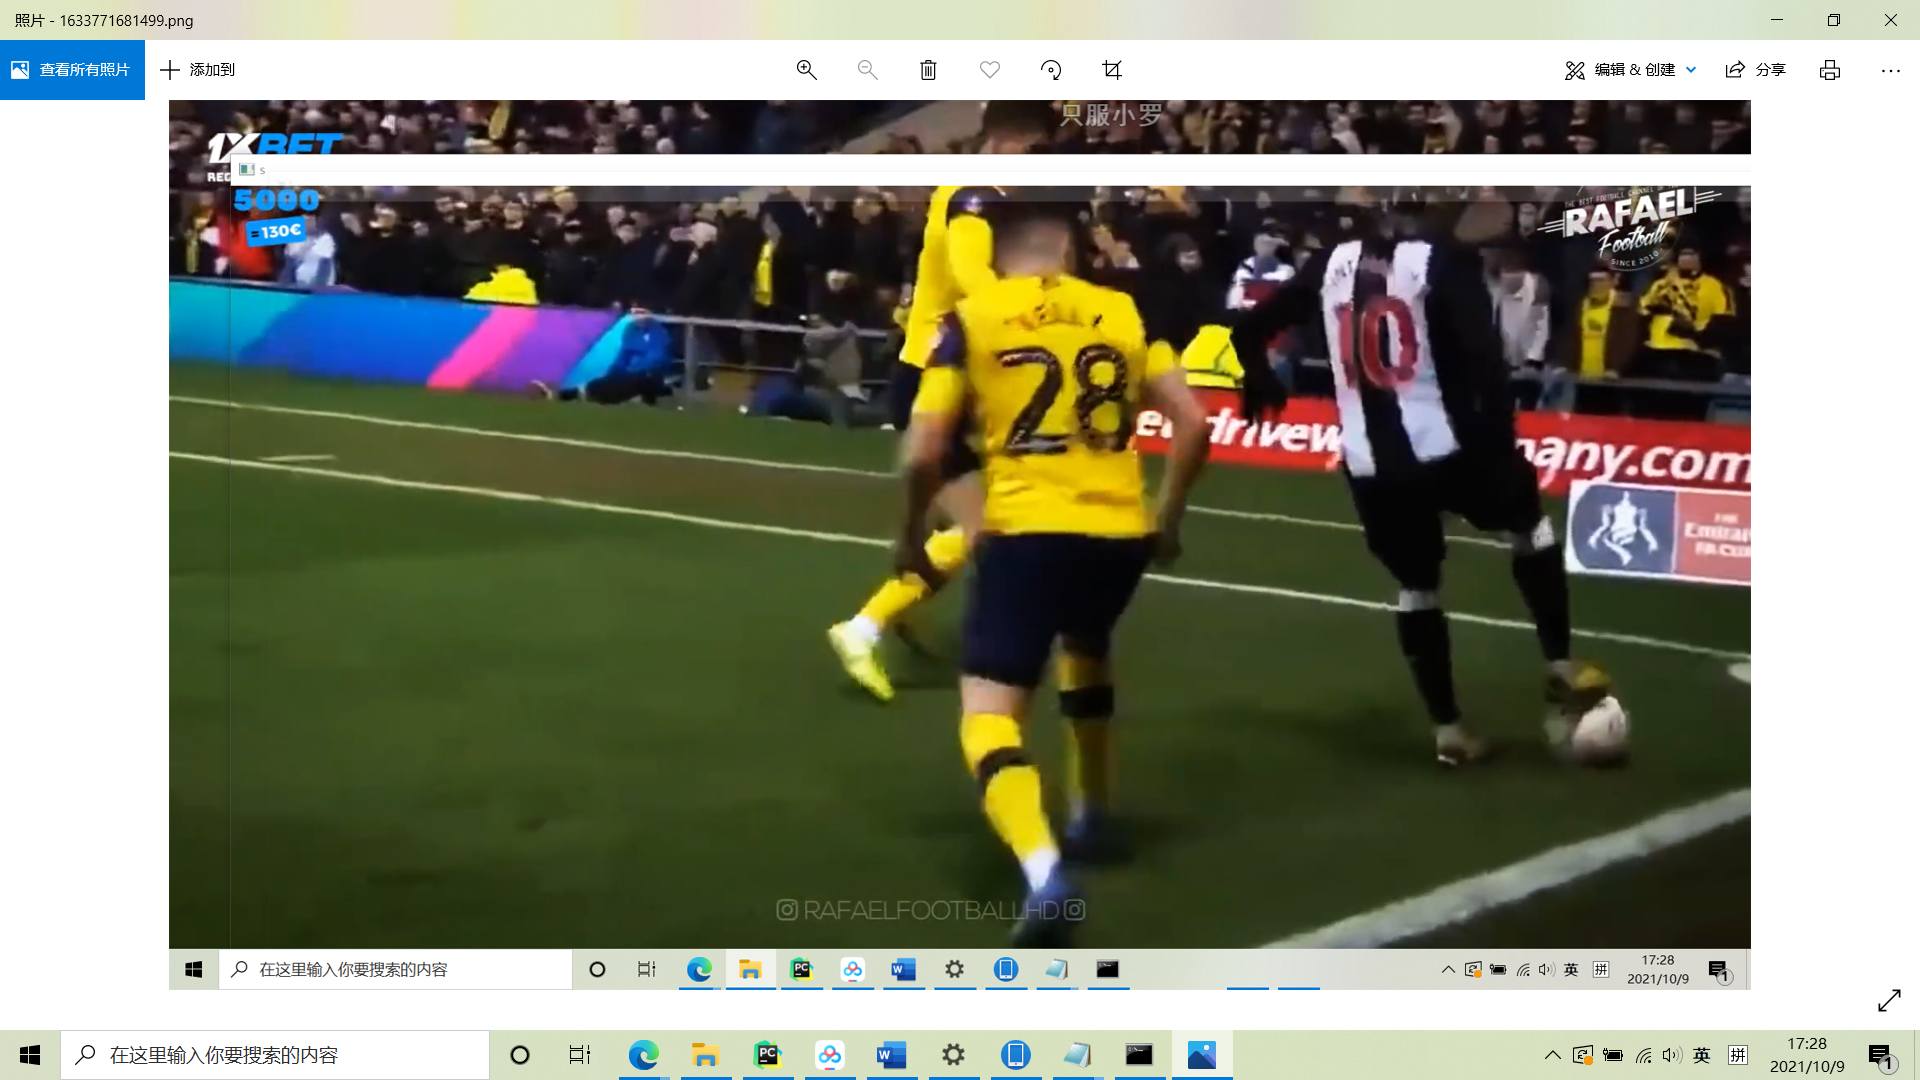ft: (1535, 698, 1630, 771)
